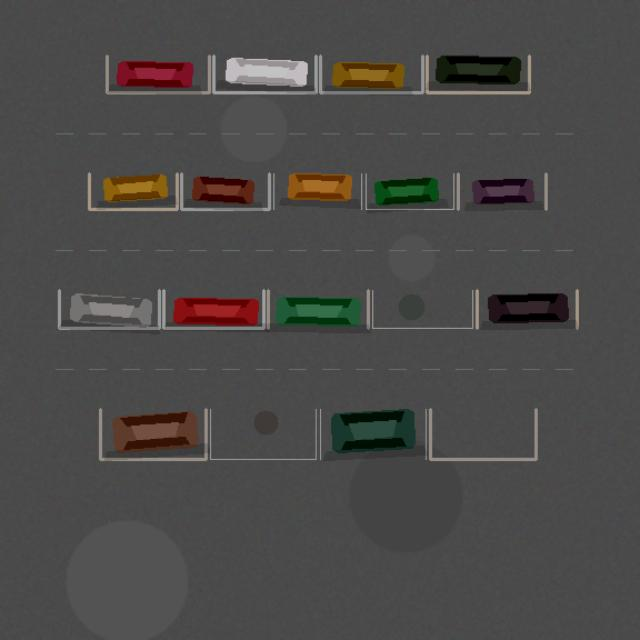space-empty: (210, 409, 316, 459), (430, 409, 536, 459), (372, 290, 472, 328)
space-occupied: (100, 409, 206, 459), (320, 409, 426, 459), (59, 290, 159, 328), (163, 290, 263, 328), (268, 290, 368, 328), (477, 290, 577, 328), (213, 56, 316, 92), (107, 56, 209, 92), (320, 56, 422, 92), (427, 56, 529, 92), (89, 173, 177, 209), (181, 173, 269, 209), (273, 173, 361, 209), (458, 173, 546, 209), (366, 173, 453, 209)
